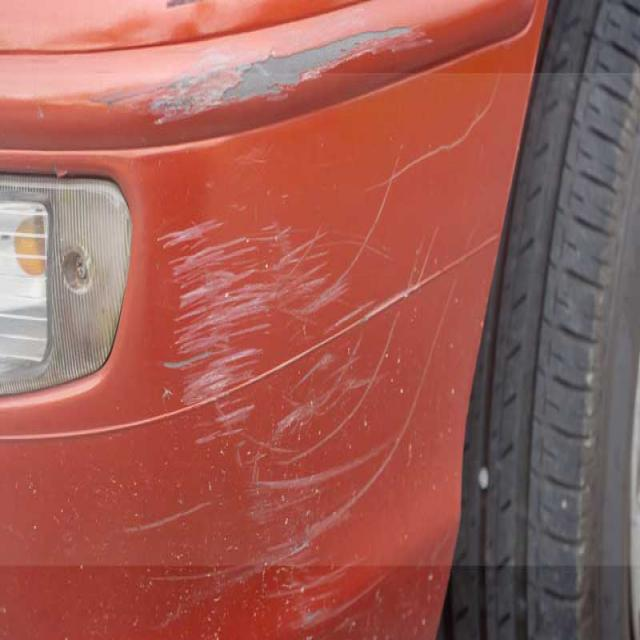front-bumper-dent: (0, 0, 583, 638)
